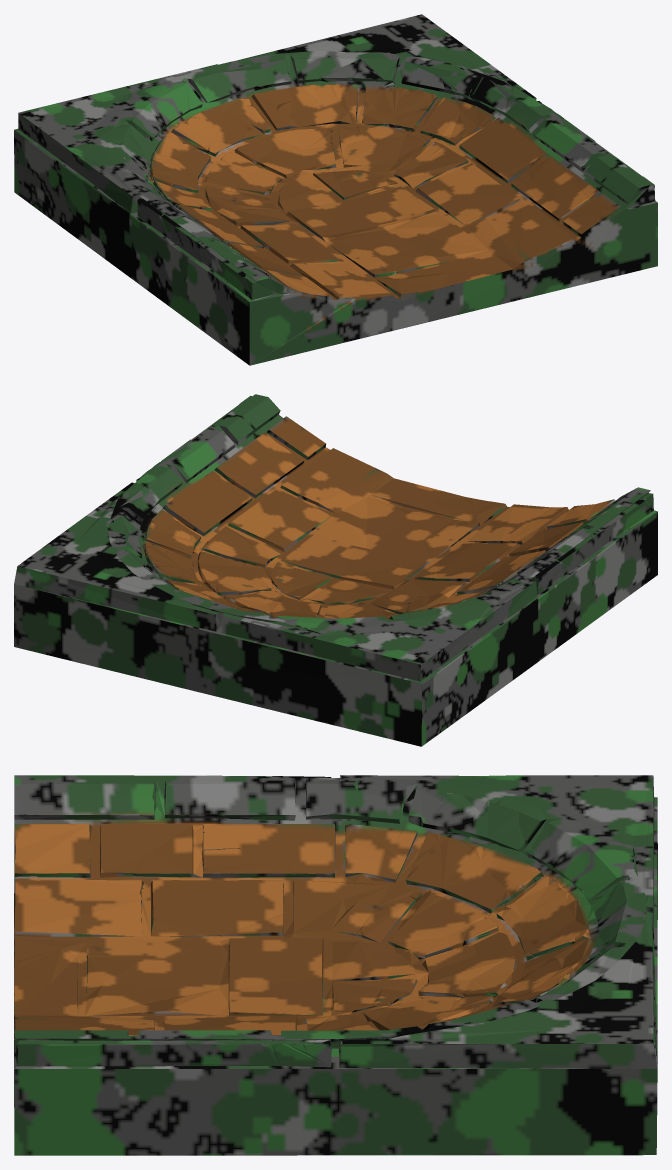
Rendered from sluice_end.fbx.
3 views of the same model, one above another, from view 1: azimuth 30°, elevation 25°; view 2: azimuth 150°, elevation 25°; view 3: azimuth 270°, elevation 25° (orthographic). The views are drawn at different scales.
Parts seen in each view (by area): view 1: Sewer Sluice End; view 2: Sewer Sluice End; view 3: Sewer Sluice End.
Boxes of the visible parts, x1,y1,x2,y2 form: Sewer Sluice End: (14,14,657,365); Sewer Sluice End: (14,394,657,746); Sewer Sluice End: (14,775,657,1155).
Bounding box in the file's own units: 4990 × 970 × 4990.
Materials: 1 (1 with a texture image).
